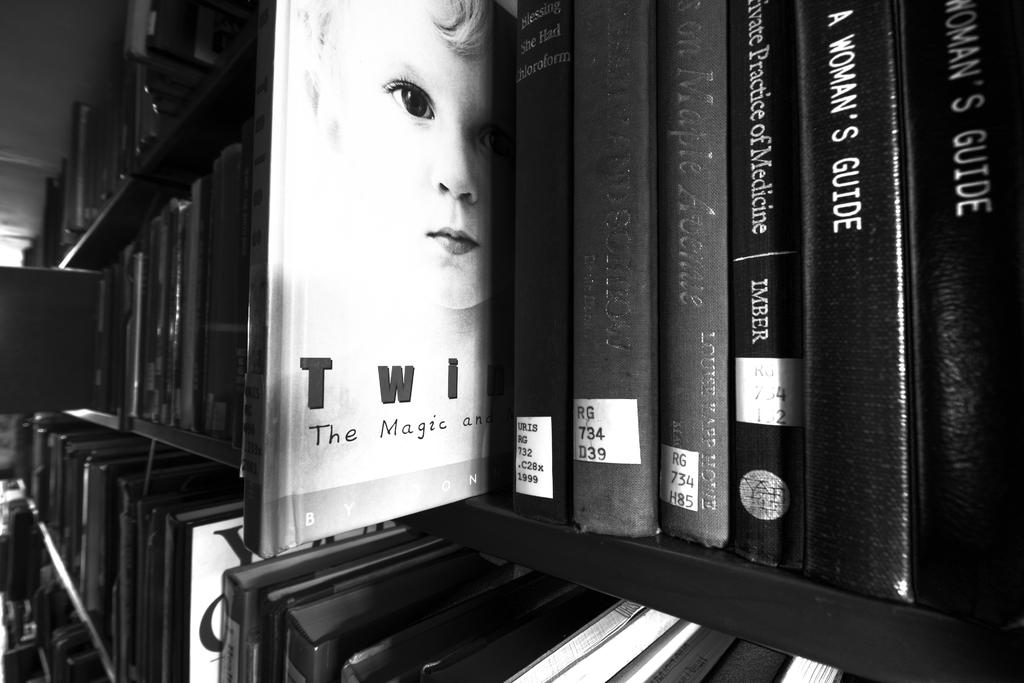Book: (259, 0, 516, 561), (212, 524, 876, 682), (894, 0, 1023, 641), (798, 0, 913, 608), (21, 0, 264, 270), (22, 413, 238, 682), (566, 0, 660, 544), (90, 136, 250, 449), (643, 0, 730, 552), (724, 0, 803, 577), (506, 0, 570, 519), (0, 478, 112, 678)
